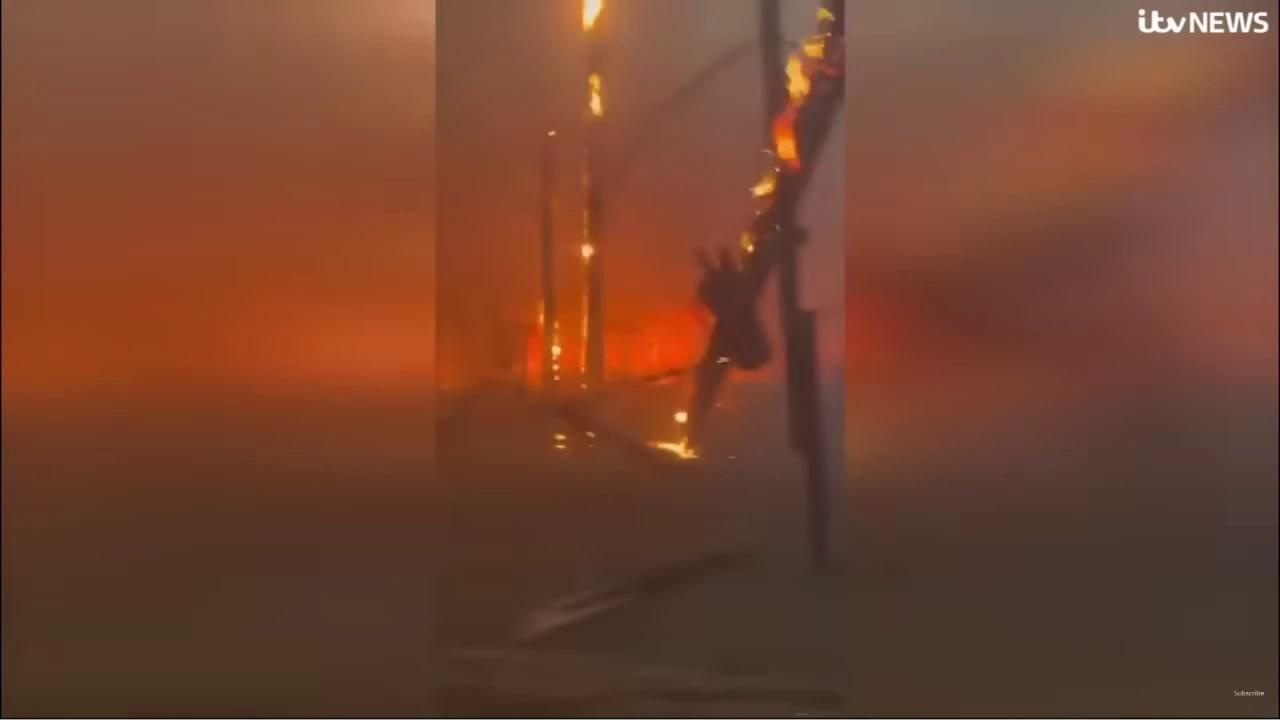fire: (772, 38, 831, 171), (640, 434, 699, 462), (578, 0, 610, 36), (583, 68, 605, 116), (745, 169, 776, 200), (551, 319, 564, 384), (580, 285, 587, 374), (738, 231, 755, 254), (534, 298, 546, 328), (579, 242, 595, 263), (672, 407, 688, 424), (553, 433, 570, 441), (555, 444, 566, 452)
smoke: (435, 0, 845, 717)
